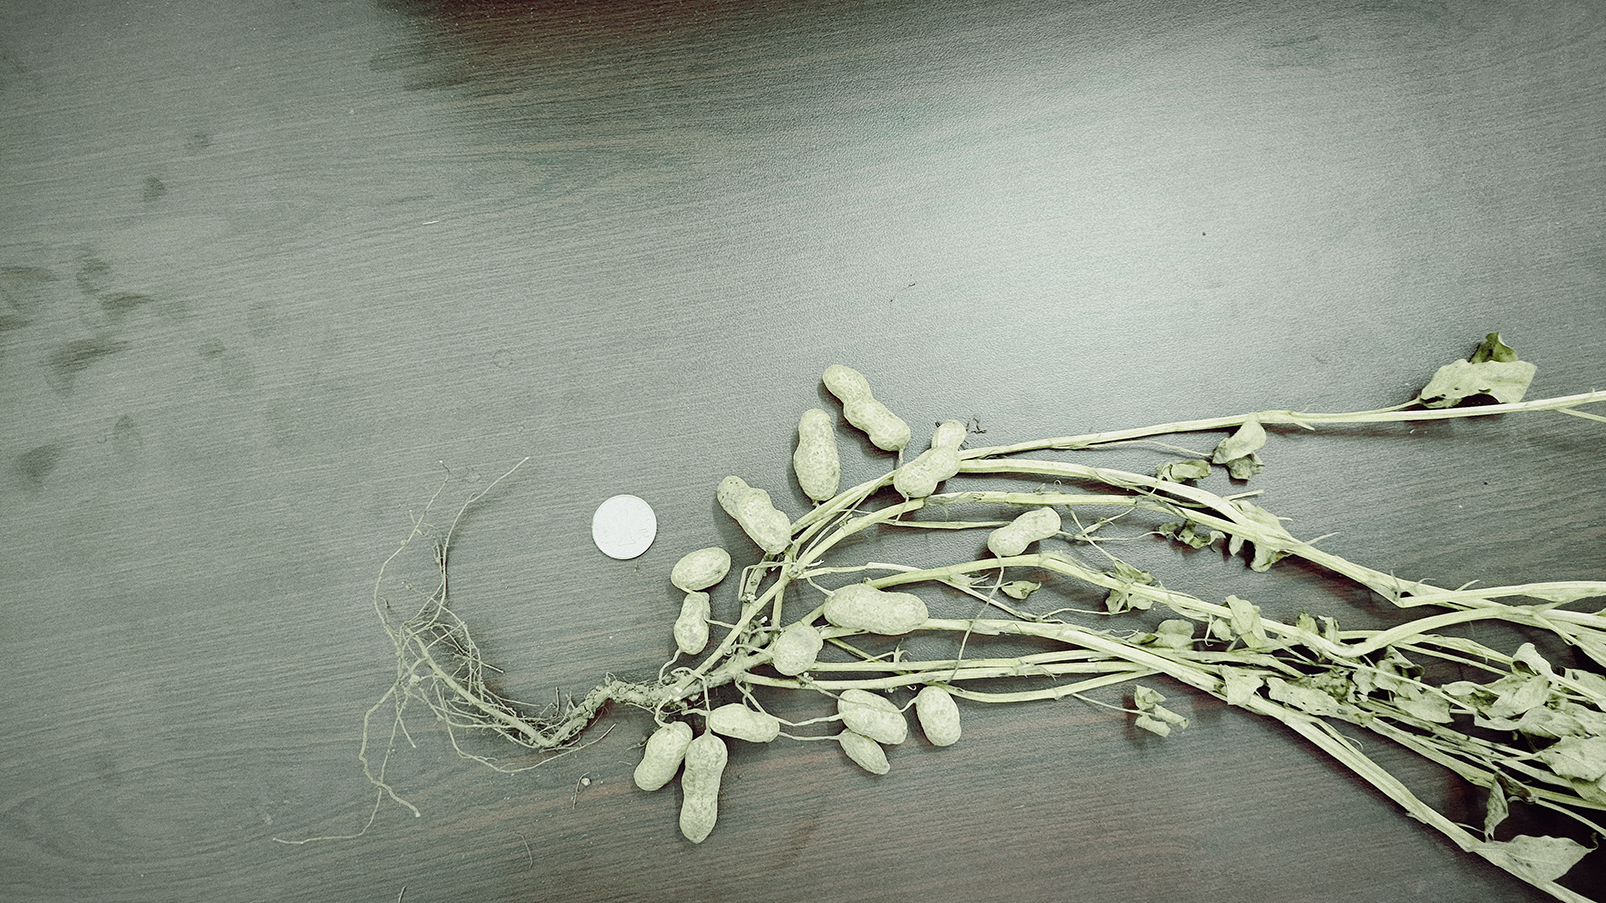h: (826, 361, 910, 453), (717, 471, 793, 556), (895, 419, 966, 501), (822, 584, 929, 636), (677, 737, 728, 842), (791, 410, 837, 505), (633, 720, 694, 791), (987, 505, 1061, 560), (837, 690, 907, 748), (670, 544, 731, 593), (914, 686, 964, 748), (709, 702, 780, 745), (772, 623, 823, 674), (838, 729, 891, 777), (671, 592, 711, 654)
